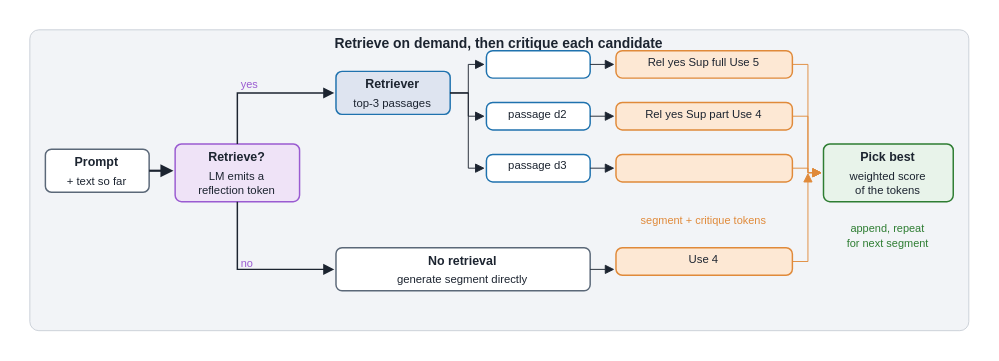
Some shapes in this 999 by 361 pixel diagram are drawn without their labels. Here are the shapes that lost their labels. From the top down, the centre of each, then its label:
(537,63): passage d1
(703,167): Rel no Sup none Use 2
